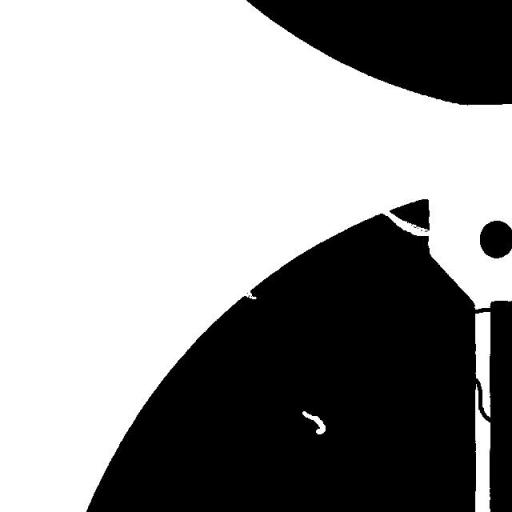mousebite: (236, 281, 264, 306)
open: (372, 198, 446, 243)
pin-hole: (294, 403, 333, 442)
short: (464, 370, 502, 430), (466, 300, 502, 321)
